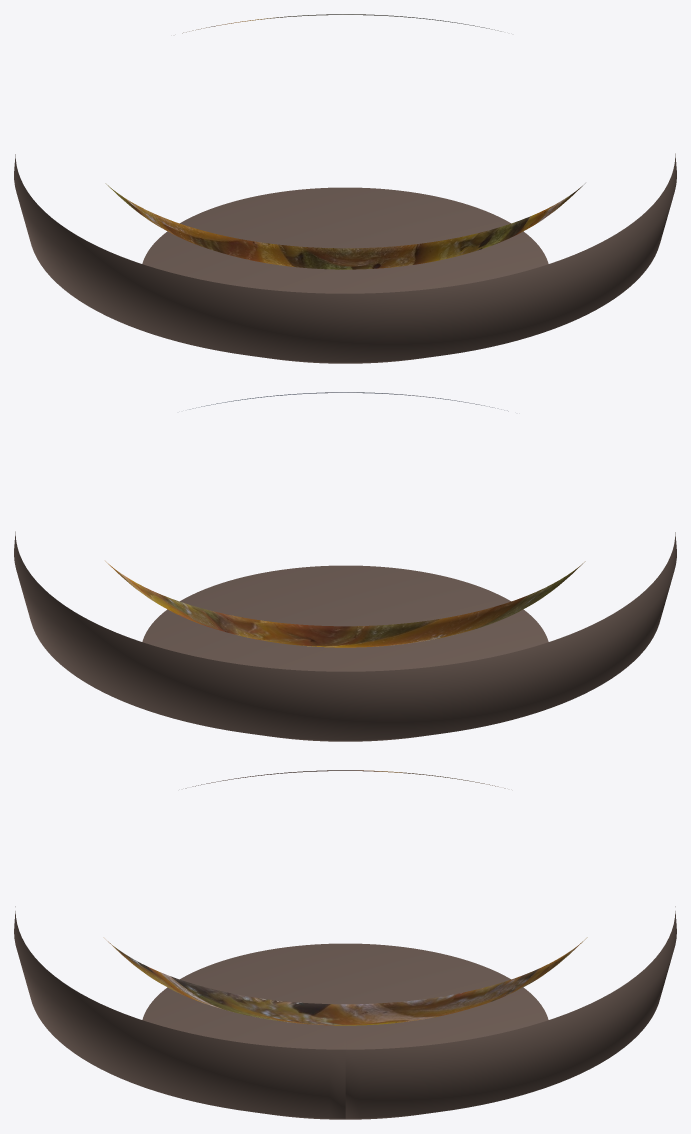
Rendered from caiat-tajine.gltf.
3 views of the same model, one above another, from view 1: azimuth 30°, elevation 25°; view 2: azimuth 150°, elevation 25°; view 3: azimuth 270°, elevation 25° (orthographic).
Visible parts, largest first — view 1: CaiatTajine; view 2: CaiatTajine; view 3: CaiatTajine.
Part boxes in pixels (x1,y1,x2,y2): CaiatTajine: (14,14,676,363); CaiatTajine: (14,392,676,741); CaiatTajine: (14,770,676,1119).
Bounding box in the file's own units: 0.3417 × 0.078 × 0.3417.
Materials: 2 (1 with a texture image).
